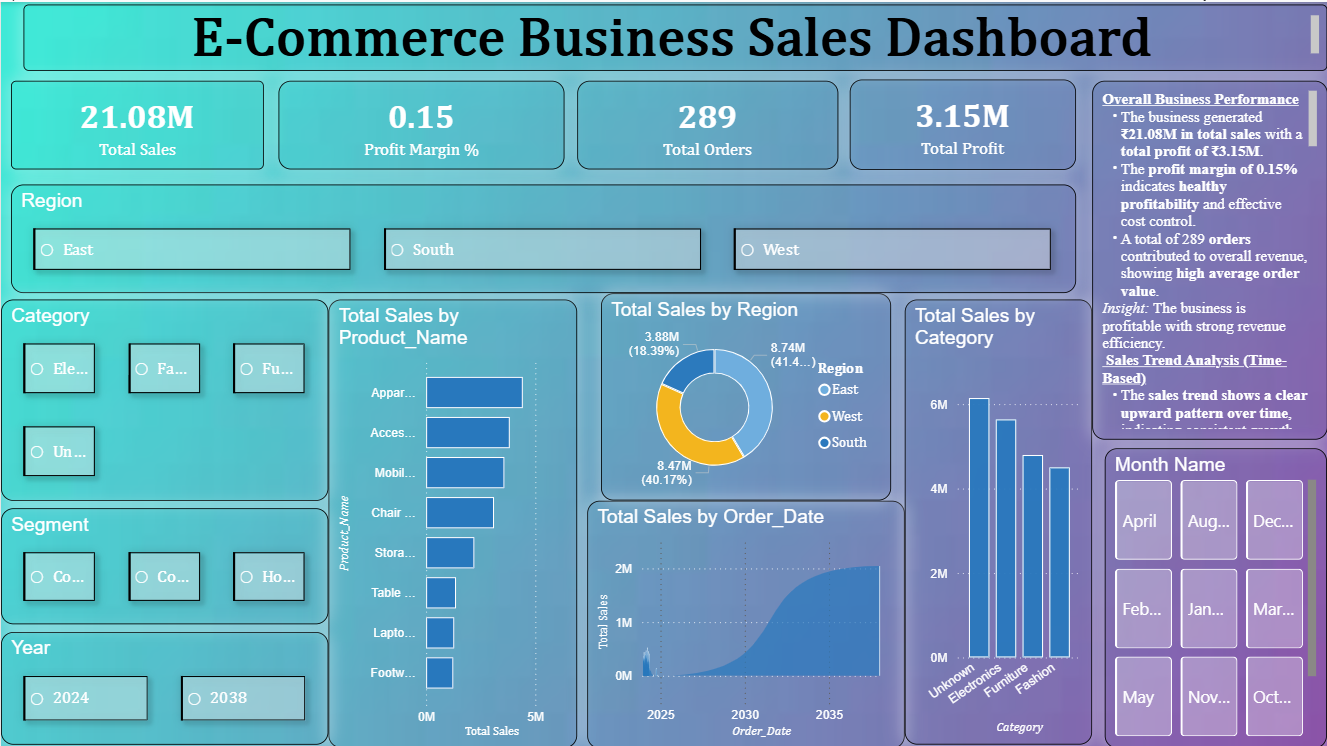

What the dashboard file says about the page in this screenshot:
{"tool":"powerbi","page":{"name":"Page 1","canvas":[1280,720],"ordinal":0},"visuals":[{"type":"card","fields":{"Values":["Ecommerce_Clean_Data.Total Sales"]},"box":[9.7,76,243.7,85.7],"z":0},{"type":"card","fields":{"Values":["Ecommerce_Clean_Data.Total Profit"]},"box":[819.2,74.8,218.4,86.9],"z":1000},{"type":"card","fields":{"Values":["Ecommerce_Clean_Data.Total Orders"]},"box":[556.2,76,252.1,85.7],"z":2000},{"type":"card","fields":{"Values":["Ecommerce_Clean_Data.Profit Margin %"]},"box":[267.8,76,276.3,85.7],"z":3000},{"type":"ribbonChart","fields":{"Category":["Ecommerce_Clean_Data.Order_Date"],"Y":["Ecommerce_Clean_Data.Total Sales"]},"box":[574.3,481.4,306.4,238.9],"z":4000},{"type":"clusteredColumnChart","fields":{"Category":["Ecommerce_Clean_Data.Category"],"Y":["Ecommerce_Clean_Data.Total Sales"]},"box":[880.7,287.1,172.5,429.5],"z":5000},{"type":"barChart","fields":{"Category":["Ecommerce_Clean_Data.Product_Name"],"Y":["Ecommerce_Clean_Data.Total Sales"]},"box":[316.1,287.1,240.1,433.1],"z":6000},{"type":"donutChart","fields":{"Category":["Ecommerce_Clean_Data.Region"],"Y":["Ecommerce_Clean_Data.Total Sales"]},"box":[565.8,281.1,279.9,200.3],"z":7000},{"type":"advancedSlicerVisual","fields":{"Values":["Ecommerce_Clean_Data.Year"]},"box":[0,608,316.1,94.1],"z":8000},{"type":"advancedSlicerVisual","fields":{"Values":["Ecommerce_Clean_Data.Month Name"]},"box":[1065.3,430.7,214.7,289.5],"z":9000},{"type":"advancedSlicerVisual","fields":{"Values":["Ecommerce_Clean_Data.Region"]},"box":[9.7,177.3,1015.8,95.3],"z":10000},{"type":"advancedSlicerVisual","fields":{"Values":["Ecommerce_Clean_Data.Category"]},"box":[0,287.1,316.1,194.2],"z":11000},{"type":"advancedSlicerVisual","fields":{"Values":["Ecommerce_Clean_Data.Segment"]},"box":[0,488.6,316.1,112.2],"z":12000},{"type":"textbox","box":[1053.2,76,226.8,346.2],"z":13000},{"type":"textbox","box":[21.7,2.4,1258.3,63.9],"z":14000}]}

Visuals, with their boxes in screenshot pixels (x1, y1, x2, y2), scaled from the page's 1280x720 canvas onto the 1327x746 screenshot:
card - Ecommerce_Clean_Data.Total Sales: 10 79 263 168
card - Ecommerce_Clean_Data.Total Profit: 849 78 1076 168
card - Ecommerce_Clean_Data.Total Orders: 577 79 838 168
card - Ecommerce_Clean_Data.Profit Margin %: 278 79 564 168
ribbonChart - Ecommerce_Clean_Data.Order_Date x Ecommerce_Clean_Data.Total Sales: 595 499 913 745
clusteredColumnChart - Ecommerce_Clean_Data.Category x Ecommerce_Clean_Data.Total Sales: 913 297 1092 742
barChart - Ecommerce_Clean_Data.Product_Name x Ecommerce_Clean_Data.Total Sales: 328 297 577 745
donutChart - Ecommerce_Clean_Data.Region x Ecommerce_Clean_Data.Total Sales: 587 291 877 499
advancedSlicerVisual - Ecommerce_Clean_Data.Year: 0 630 328 727
advancedSlicerVisual - Ecommerce_Clean_Data.Month Name: 1104 446 1326 745
advancedSlicerVisual - Ecommerce_Clean_Data.Region: 10 184 1063 282
advancedSlicerVisual - Ecommerce_Clean_Data.Category: 0 297 328 499
advancedSlicerVisual - Ecommerce_Clean_Data.Segment: 0 506 328 622
textbox: 1092 79 1326 437
textbox: 22 2 1326 69
